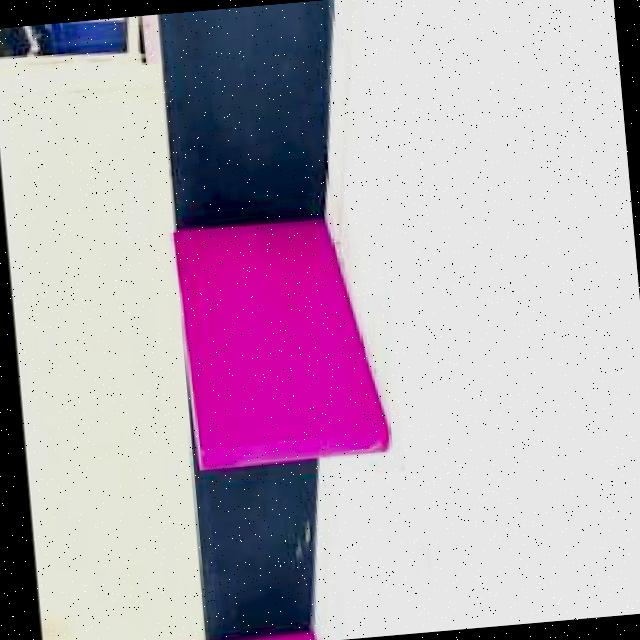xparking: (176, 214, 374, 472), (207, 632, 321, 640)
